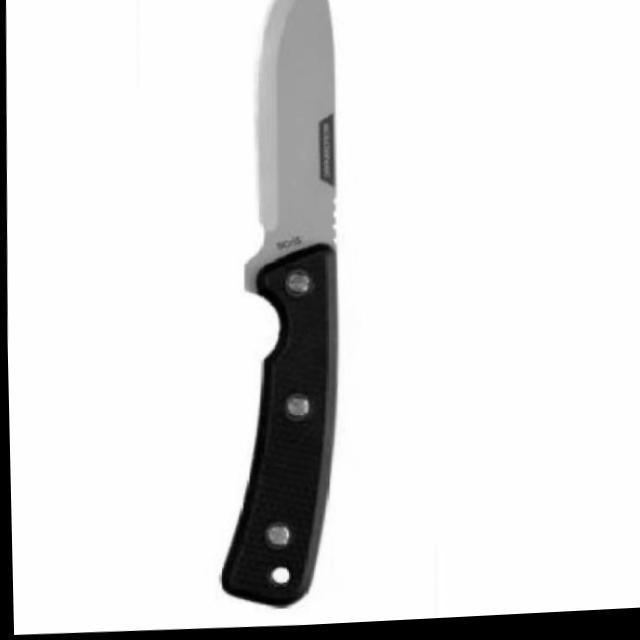weapon: (203, 0, 348, 614)
